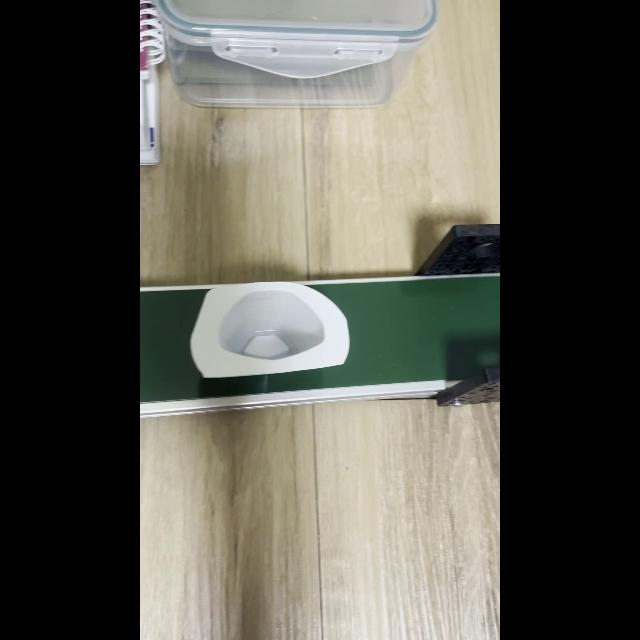clean: (190, 282, 348, 378)
